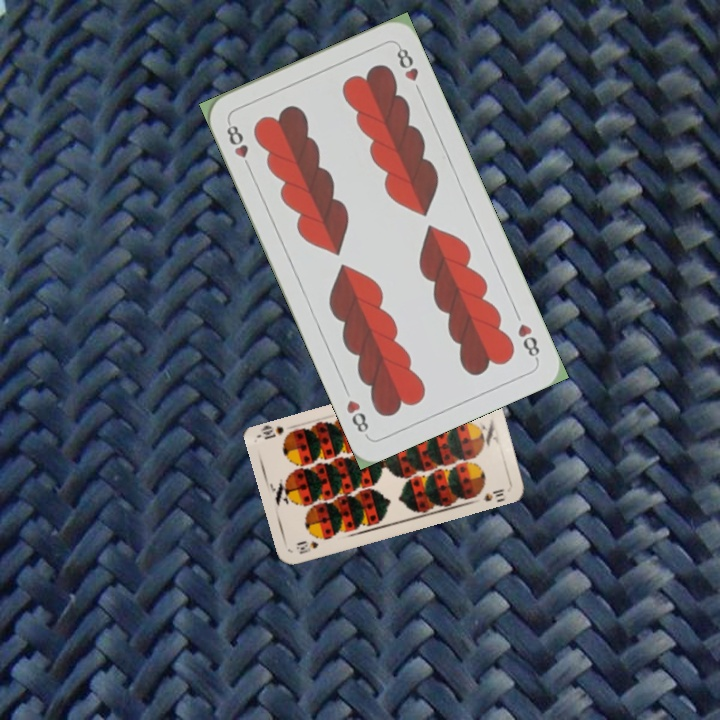H8: (222, 117, 254, 173), (513, 319, 543, 363)
S10: (292, 536, 321, 557)
